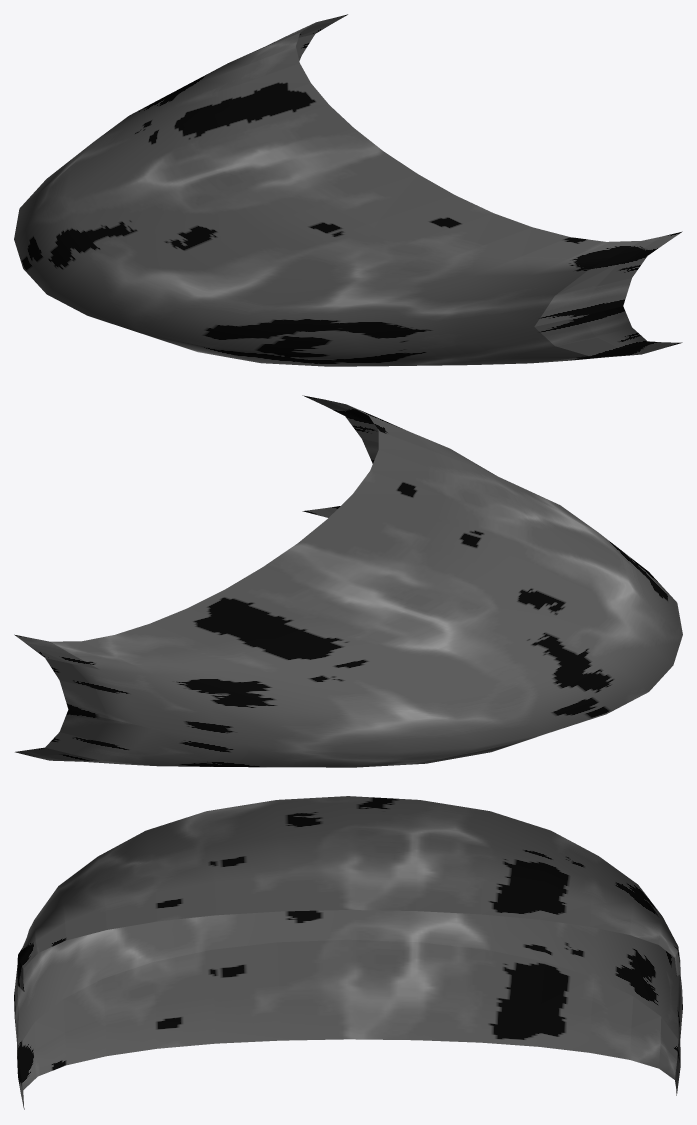
The model's file is daofeng04.FBX.
3 views of the same model, one above another, from view 1: azimuth 30°, elevation 25°; view 2: azimuth 150°, elevation 25°; view 3: azimuth 270°, elevation 25° (orthographic). The views are drawn at different scales.
Visible parts, largest first — view 1: Sphere003; view 2: Sphere003; view 3: Sphere003.
Boxes of the visible parts, bbox=[...] form: Sphere003: bbox=[14, 14, 682, 366]; Sphere003: bbox=[14, 395, 682, 767]; Sphere003: bbox=[14, 796, 682, 1109].
Size of the model in its own units: 75.19 by 17.97 by 84.14.
